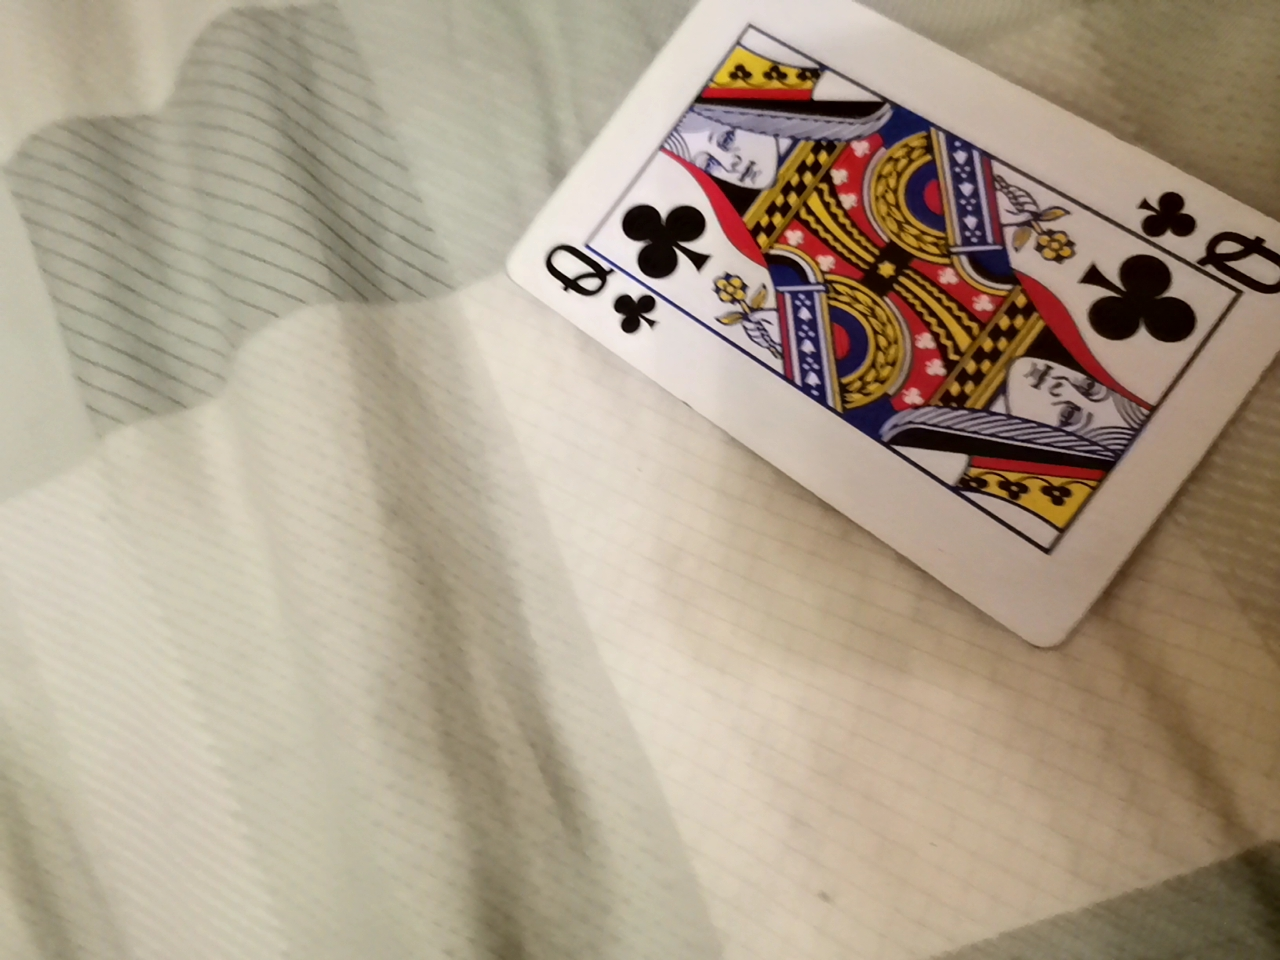mh q: (506, 4, 1274, 668)
